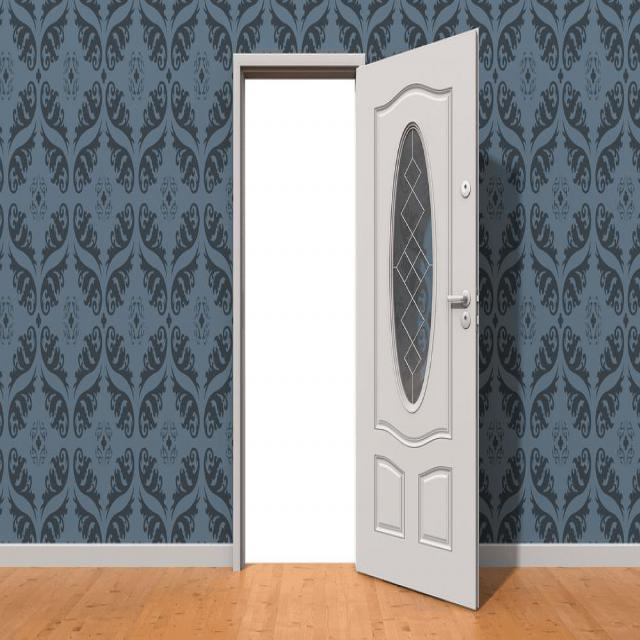open: (214, 33, 489, 620)
